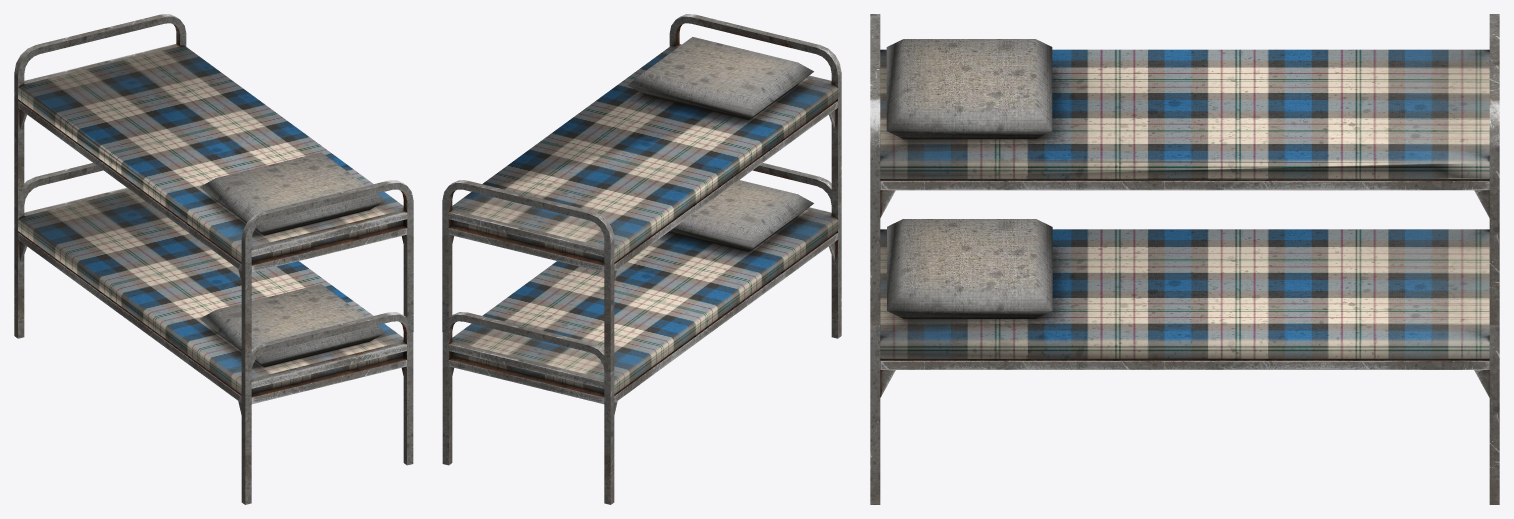
Rendered from новая кровать цвет.fbx.
The picture shows the model from 3 angles, left to right: view 1: azimuth 30°, elevation 25°; view 2: azimuth 150°, elevation 25°; view 3: azimuth 270°, elevation 25°; orthographic projection. The views are drawn at different scales.
Visible parts, largest first — view 1: Cube_006, Cube_006_mattress_0.001, Cube_006_metal_0.001, Cube_006_pillow_0.001; view 2: Cube_006, Cube_006_mattress_0.001, Cube_006_metal_0.001, Cube_006_pillow_0.001; view 3: Cube_006, Cube_006_mattress_0.001, Cube_006_pillow_0.001, Cube_006_metal_0.001.
Boxes of the visible parts, box(x1,y1,x2,y2) form: Cube_006: box(14, 163, 413, 504); Cube_006_mattress_0.001: box(18, 45, 403, 262); Cube_006_metal_0.001: box(14, 14, 413, 372); Cube_006_pillow_0.001: box(200, 152, 385, 235); Cube_006: box(442, 163, 841, 504); Cube_006_mattress_0.001: box(452, 45, 837, 262); Cube_006_metal_0.001: box(442, 14, 841, 372); Cube_006_pillow_0.001: box(628, 37, 813, 119); Cube_006: box(870, 219, 1499, 504); Cube_006_mattress_0.001: box(880, 49, 1489, 179); Cube_006_pillow_0.001: box(886, 39, 1052, 138); Cube_006_metal_0.001: box(870, 14, 1499, 325).
Size of the model in its own units: 71.05 by 115 by 169.
